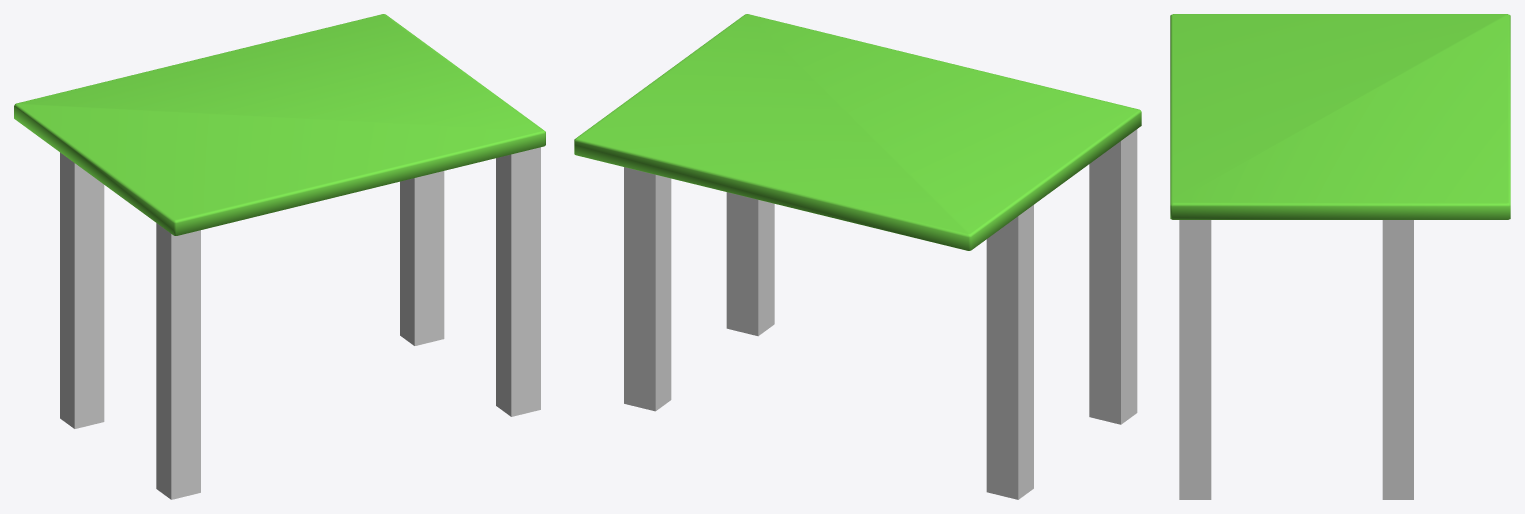
File: TableSmall.fbx
The picture shows the model from 3 angles, left to right: view 1: azimuth 30°, elevation 25°; view 2: azimuth 150°, elevation 25°; view 3: azimuth 270°, elevation 25°; orthographic projection. The views are drawn at different scales.
Parts seen in each view (by area): view 1: TableSmall; view 2: TableSmall; view 3: TableSmall.
Part boxes in pixels (x1,y1,x2,y2): TableSmall: [14, 14, 545, 499]; TableSmall: [574, 14, 1141, 499]; TableSmall: [1170, 14, 1510, 499].
Size of the model in its own units: 100 by 72.62 by 75.58.
